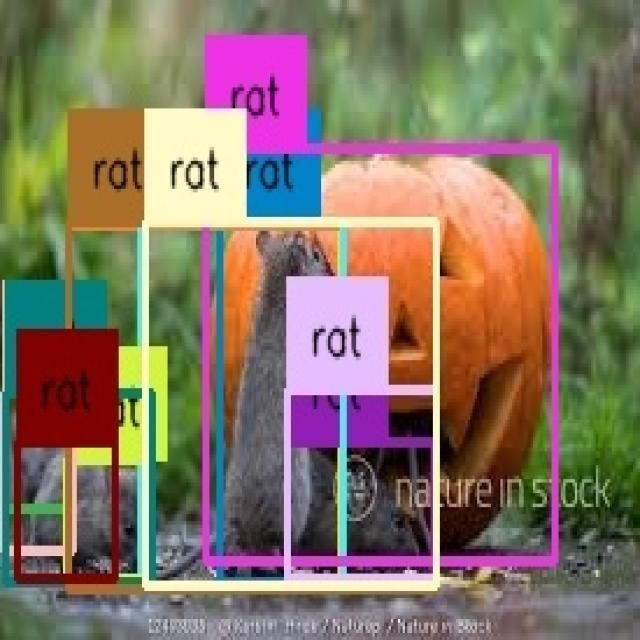rat: (207, 147, 556, 563), (70, 222, 435, 589), (146, 224, 437, 584), (68, 224, 344, 587), (219, 222, 435, 582), (141, 224, 343, 587), (220, 224, 341, 584), (286, 390, 435, 579), (5, 393, 151, 582), (286, 442, 433, 579), (17, 442, 152, 582), (18, 442, 115, 579), (5, 393, 74, 551), (65, 460, 151, 579), (5, 392, 74, 511)
